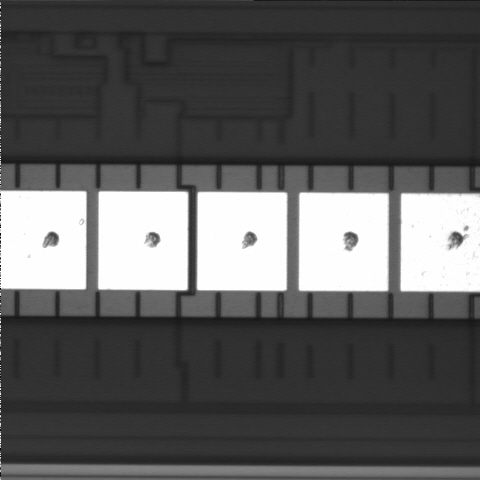pad: (98, 191, 188, 290), (197, 192, 287, 291), (299, 193, 389, 291)
